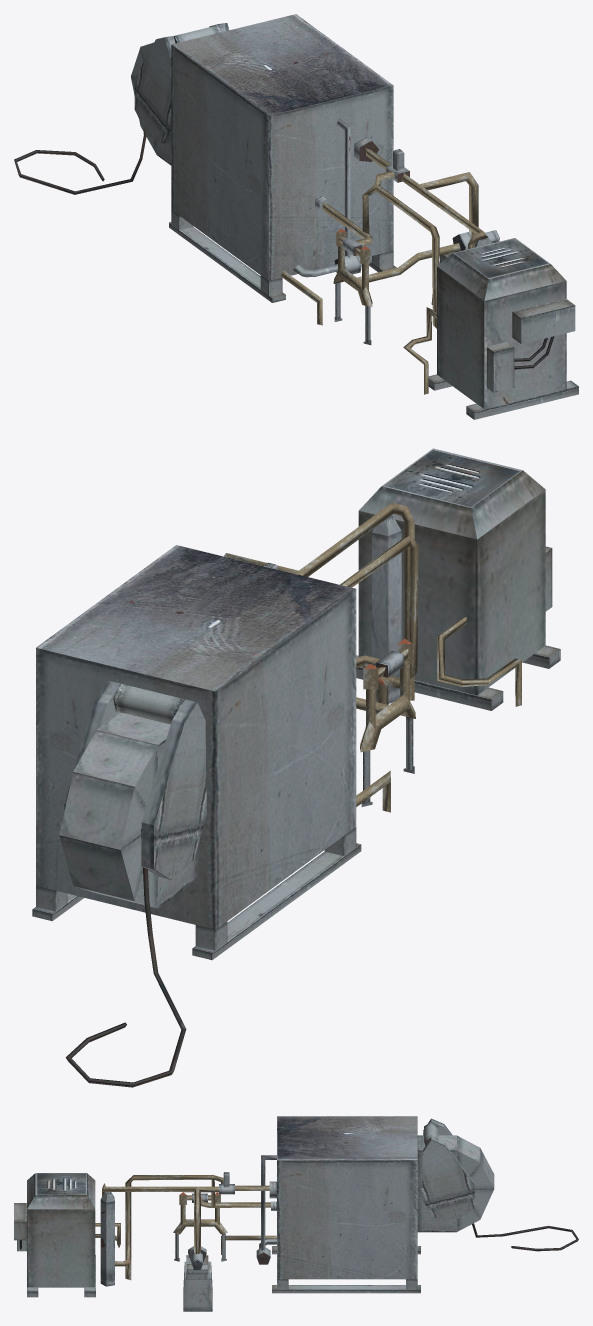
File: Air_vent_machine1.fbx
3 renders of one model, top to bottom at view 1: azimuth 30°, elevation 25°; view 2: azimuth 150°, elevation 25°; view 3: azimuth 270°, elevation 25°, orthographic. The views are drawn at different scales.
Parts seen in each view (by area): view 1: Air_vent_machine1; view 2: Air_vent_machine1; view 3: Air_vent_machine1.
Part boxes in pixels (x1,y1,x2,y2): Air_vent_machine1: [14, 14, 578, 419]; Air_vent_machine1: [32, 448, 560, 1087]; Air_vent_machine1: [14, 1116, 578, 1311].
Bounding box in the file's own units: 290 × 215 × 825.
